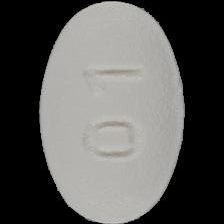52125-460: (0, 0, 224, 224)
